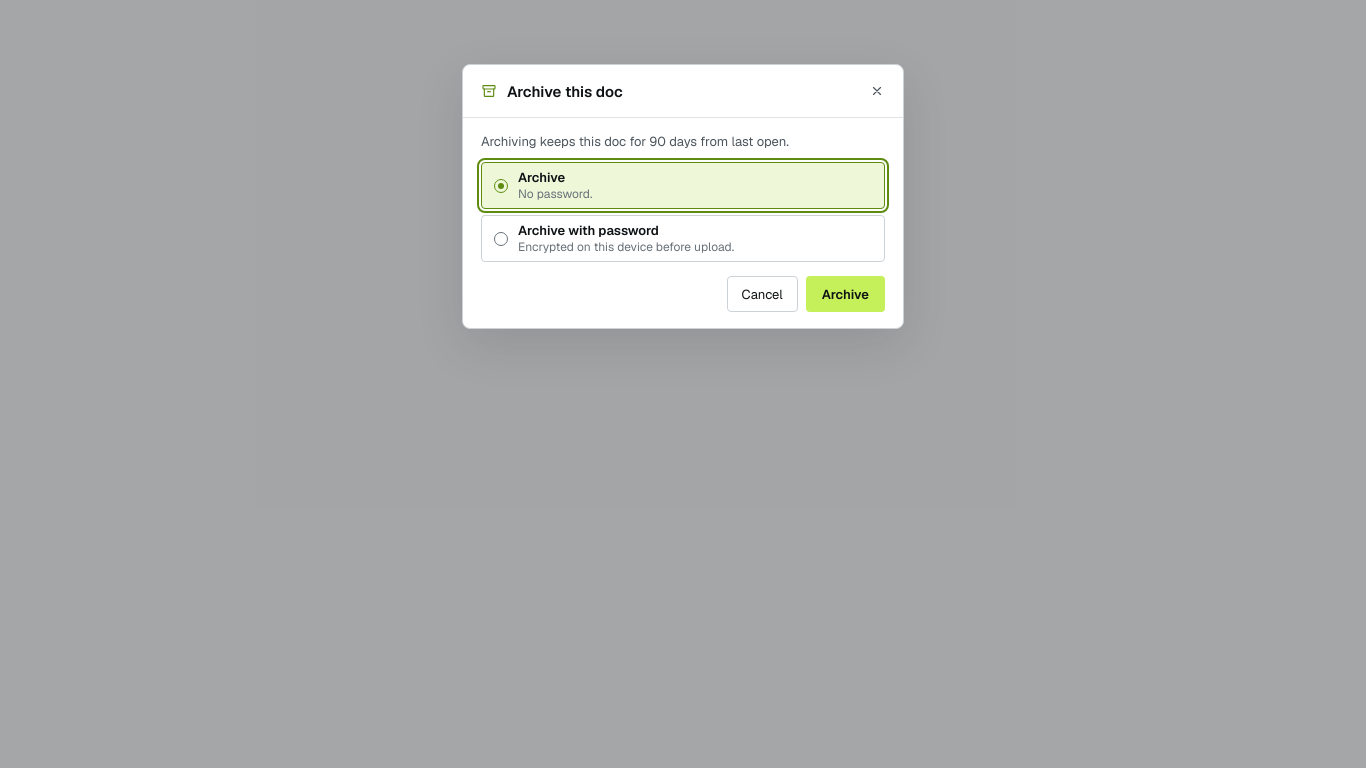
SaveModal › reports a 409 in an error toast without Retry and keeps the dialog open
Click the button "Archive".
click(845, 294)  # box [806,276,885,312]
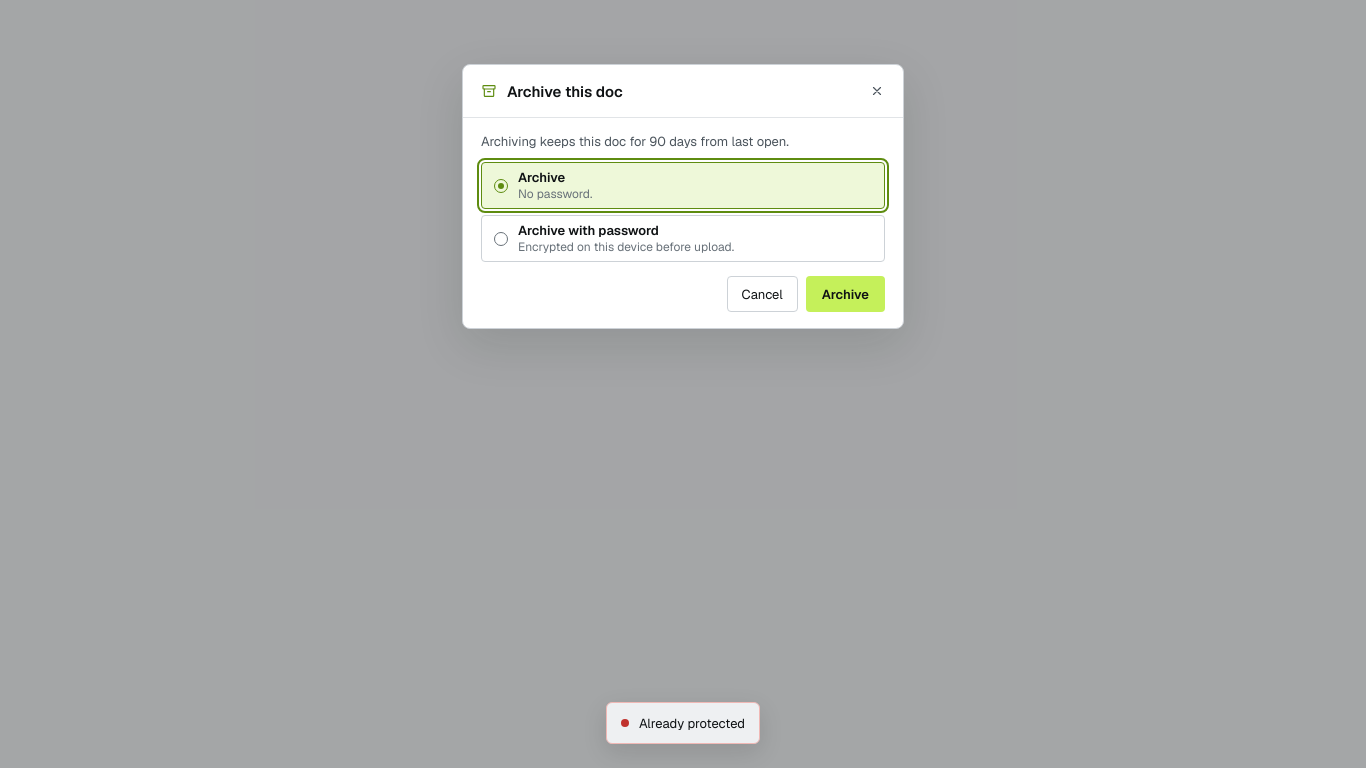
Expected: the dialog "Archive this doc" is shown, [462,64,904,329]
Now the message reads "Already protected", box [639,714,745,732]
